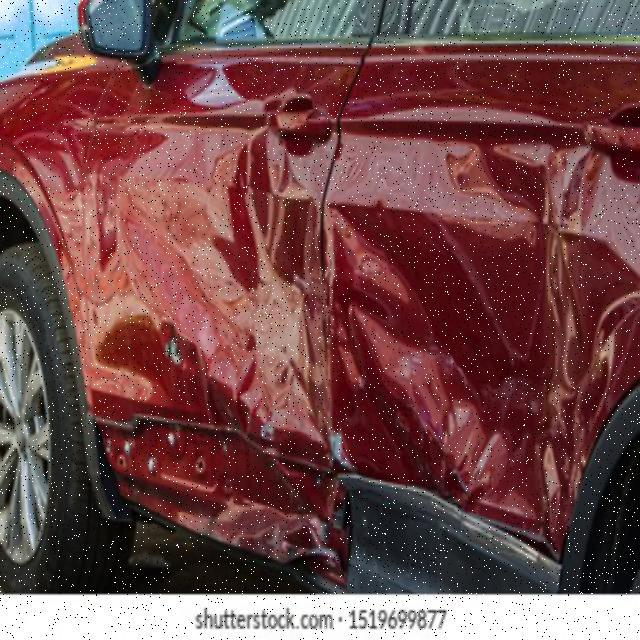doorouter-dent: (345, 44, 638, 485), (72, 44, 344, 474)
